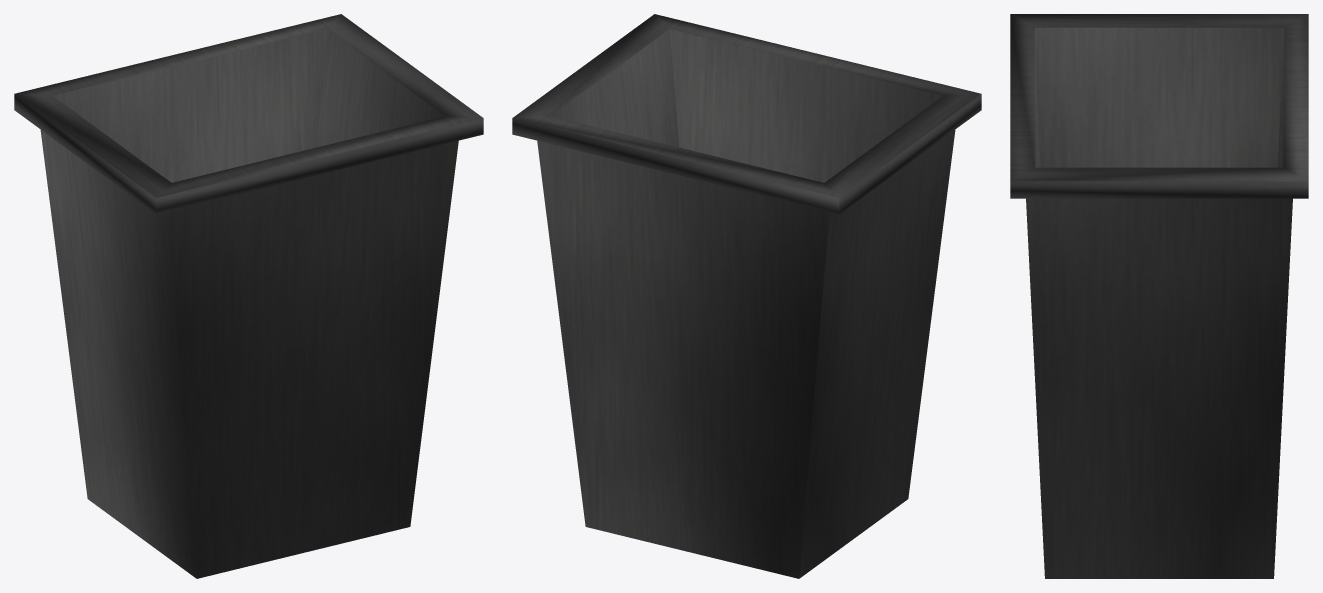
The model's file is Bin_1.fbx.
3 renders of one model, left to right at view 1: azimuth 30°, elevation 25°; view 2: azimuth 150°, elevation 25°; view 3: azimuth 270°, elevation 25°, orthographic. The views are drawn at different scales.
Visible parts, largest first — view 1: Bin; view 2: Bin; view 3: Bin.
Part boxes in pixels (<box>): Bin: <box>14,14,483,578</box>; Bin: <box>512,14,981,578</box>; Bin: <box>1010,14,1308,578</box>.
Bounding box in the file's own units: 50.23 × 59.73 × 37.85.
1 material, 1 textured.
